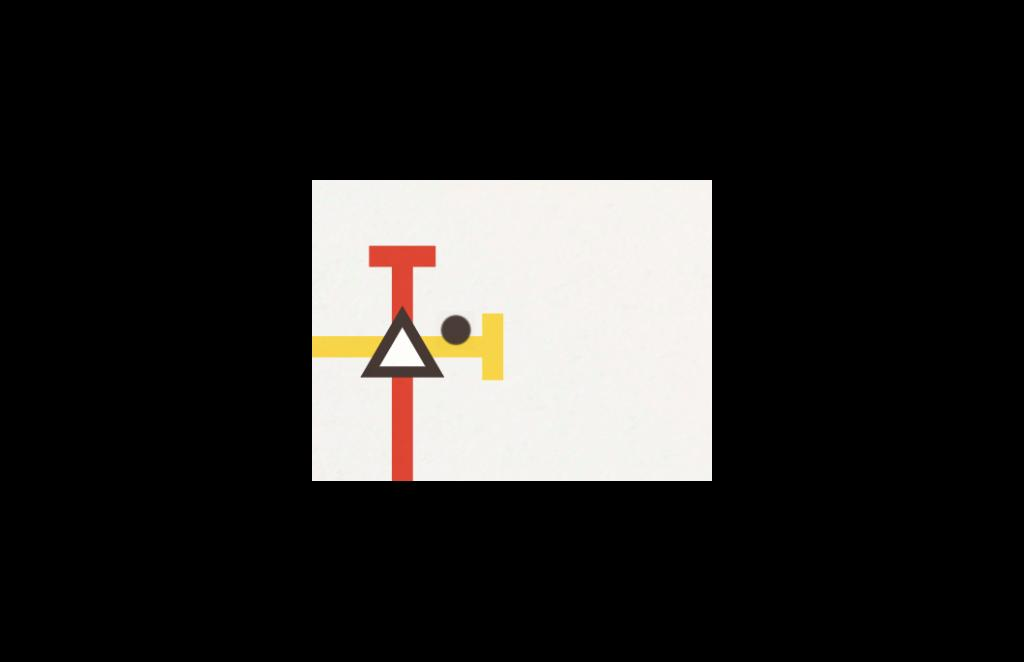connected_station: (359, 306, 449, 398)
line_endpoint: (351, 234, 456, 288), (469, 304, 523, 384)
